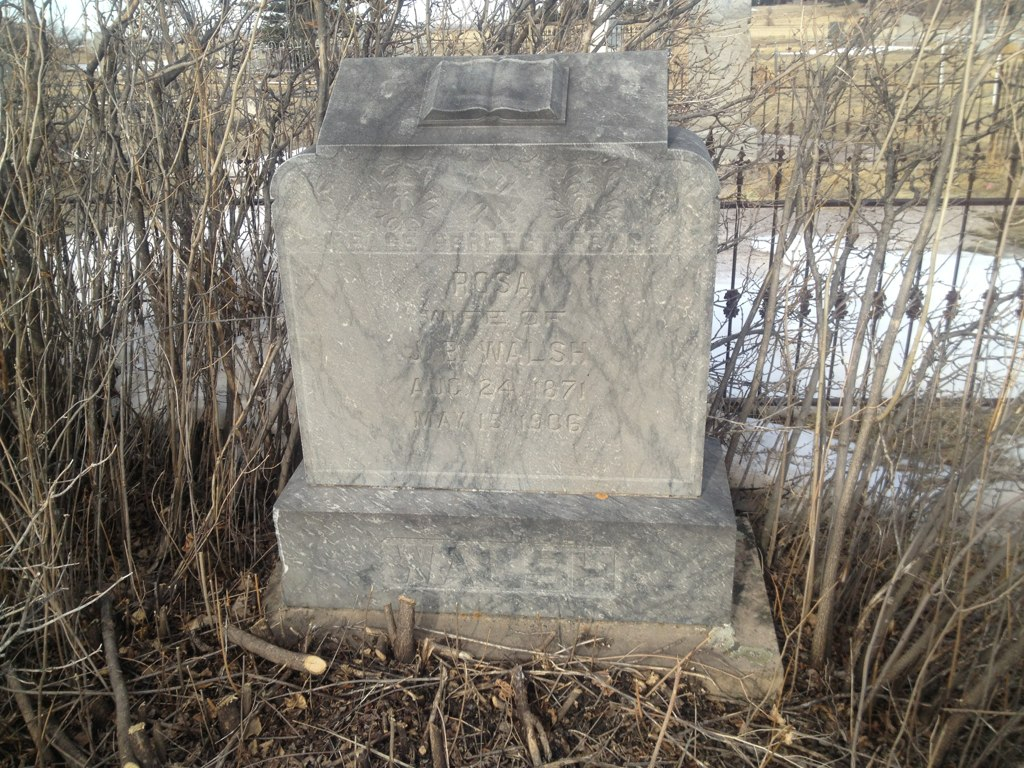upright: (258, 54, 790, 708)
